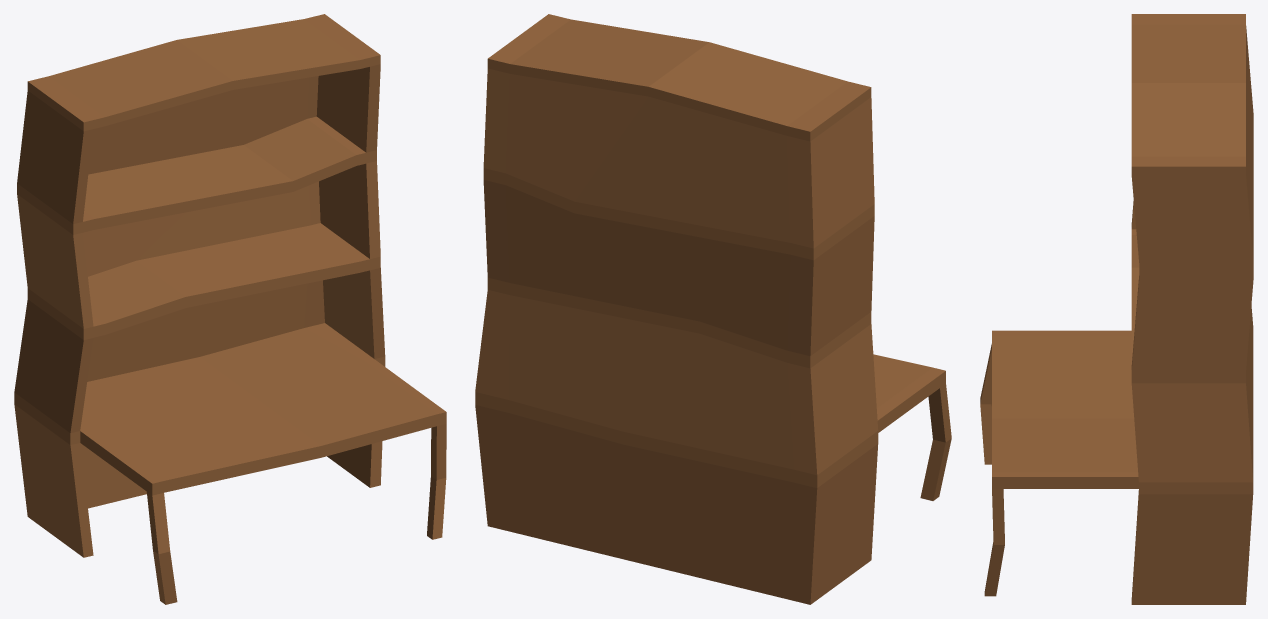
Rendered from Closet3.fbx.
3 renders of one model, left to right at view 1: azimuth 30°, elevation 25°; view 2: azimuth 150°, elevation 25°; view 3: azimuth 270°, elevation 25°, orthographic. The views are drawn at different scales.
Parts seen in each view (by area): view 1: Cube.271; view 2: Cube.271; view 3: Cube.271.
Part boxes in pixels (x1,y1,x2,y2): Cube.271: (14,14,446,604); Cube.271: (475,14,951,604); Cube.271: (980,14,1253,604).
Bounding box in the file's own units: 648 × 866 × 479.
